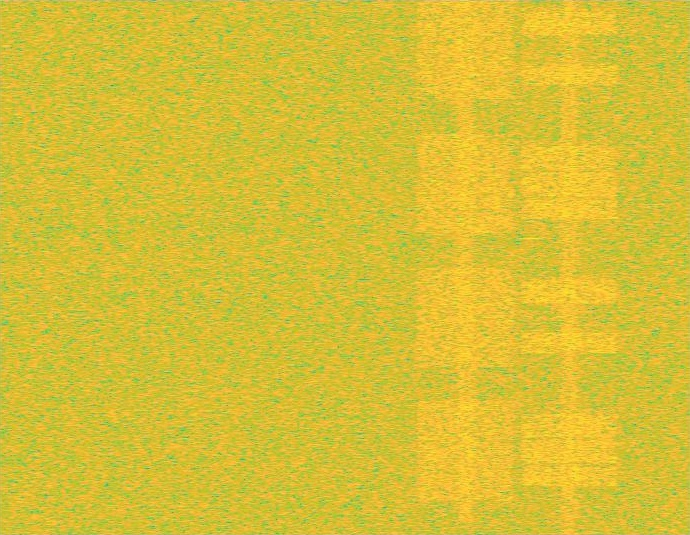5G: (414, 0, 518, 534)
DSSS: (454, 0, 477, 534), (558, 0, 581, 534)
LTE: (518, 0, 621, 534)
Radar: (526, 0, 539, 534)
